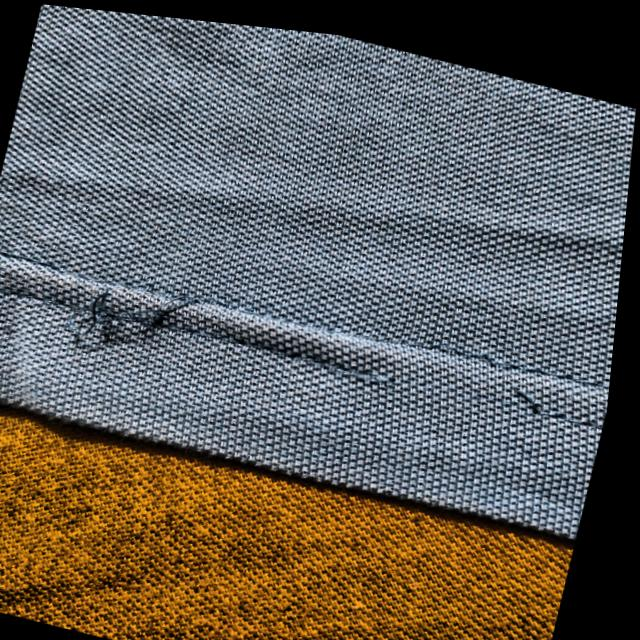Stitch: (300, 291, 584, 436), (54, 245, 239, 372)
